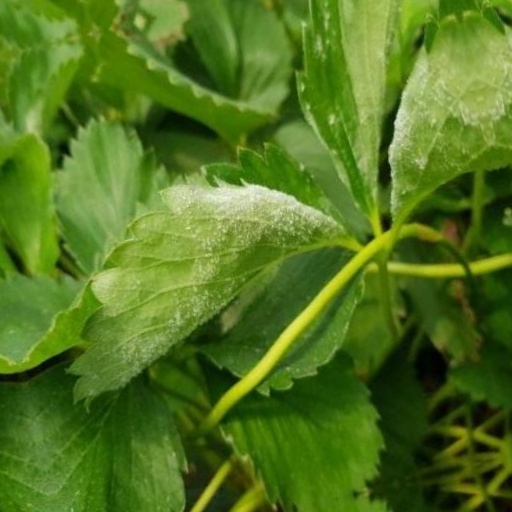Powdery Mildew Leaf: (42, 144, 361, 371), (335, 0, 490, 251), (391, 31, 511, 267), (168, 263, 367, 397)
